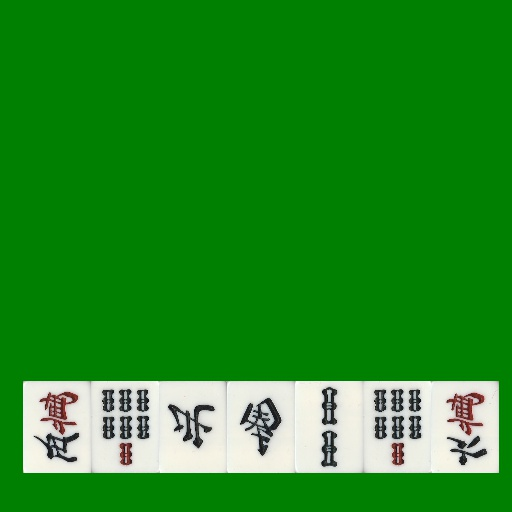2s: (295, 381, 363, 473)
5m: (23, 381, 91, 473)
6m: (431, 381, 499, 473)
7s: (91, 381, 159, 473), (363, 381, 431, 473)
north: (159, 381, 227, 473)
south: (227, 381, 295, 473)
